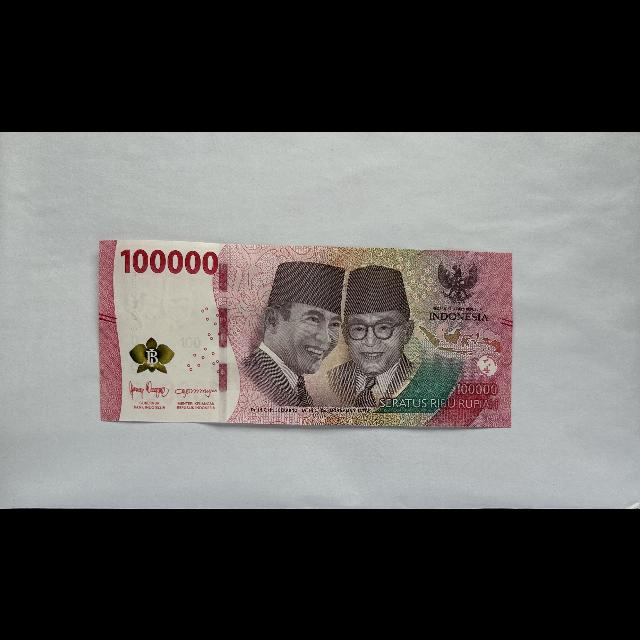Asli-100k: (98, 238, 514, 429)
Tinta-Asli-100k: (129, 336, 176, 375)
